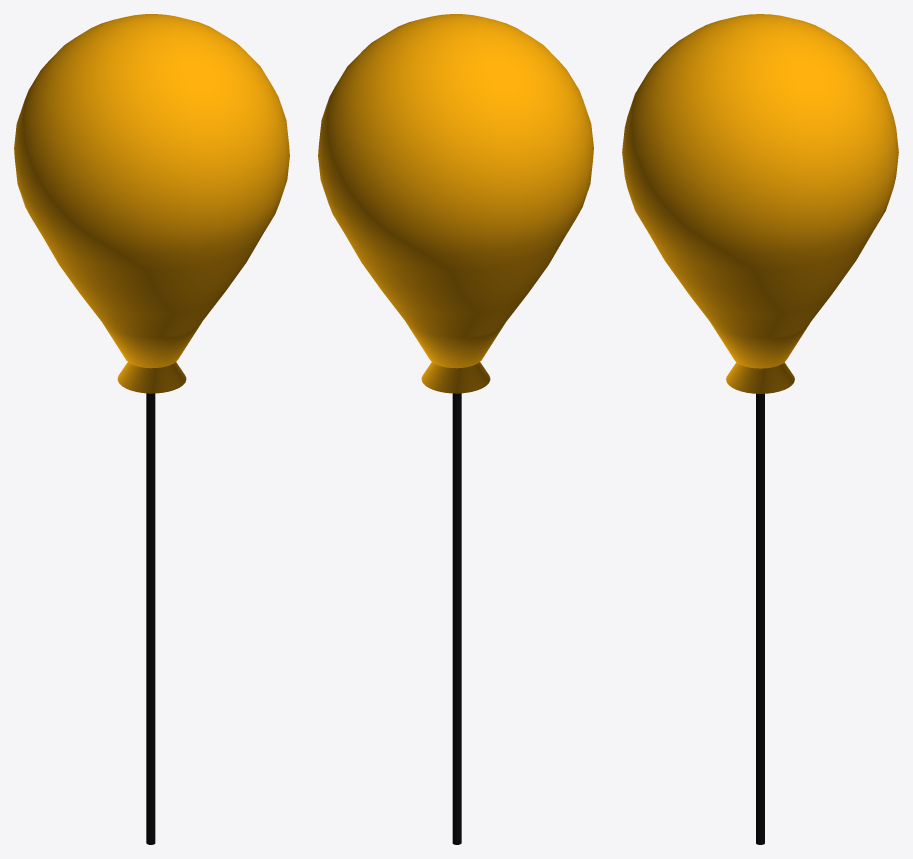
File: BallonGold.obj
3 renders of one model, left to right at view 1: azimuth 30°, elevation 25°; view 2: azimuth 150°, elevation 25°; view 3: azimuth 270°, elevation 25°, orthographic.
Parts seen in each view (by area): view 1: Ballon; view 2: Ballon; view 3: Ballon.
Boxes of the visible parts, <box> form: Ballon: <box>14,14,289,844</box>; Ballon: <box>318,14,593,844</box>; Ballon: <box>622,14,898,844</box>.
Size of the model in its own units: 2 by 6.51 by 2.
